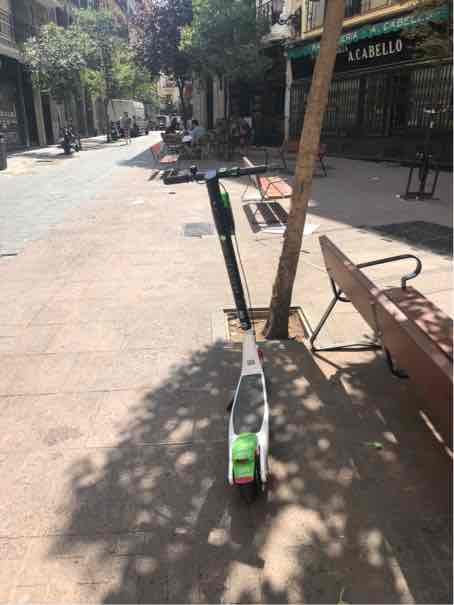scooter: (153, 141, 289, 498)
